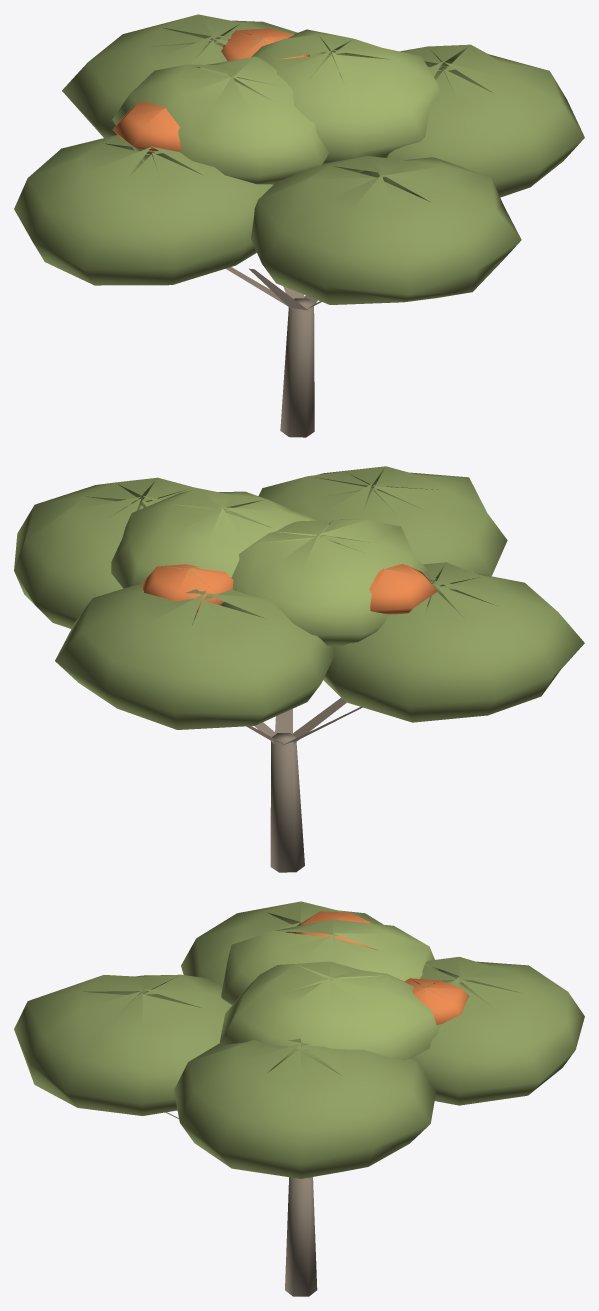
File: flame-tree-mid.glb
3 renders of one model, top to bottom at view 1: azimuth 30°, elevation 25°; view 2: azimuth 150°, elevation 25°; view 3: azimuth 270°, elevation 25°, orthographic. The views are drawn at different scales.
Parts seen in each view (by area): view 1: flame-tree-mid_canopy_flame-tree_shade, flame-tree-mid_canopy_flame-tree, flame-tree-mid_canopy_bark, flame-tree-mid_canopy_flame_bloom; view 2: flame-tree-mid_canopy_flame-tree_shade, flame-tree-mid_canopy_flame-tree, flame-tree-mid_canopy_bark, flame-tree-mid_canopy_flame_bloom; view 3: flame-tree-mid_canopy_flame-tree_shade, flame-tree-mid_canopy_flame-tree, flame-tree-mid_canopy_bark, flame-tree-mid_canopy_flame_bloom.
Boxes of the visible parts, <box> form: flame-tree-mid_canopy_flame-tree_shade: <box>14,14,584,304</box>; flame-tree-mid_canopy_flame-tree: <box>112,29,440,184</box>; flame-tree-mid_canopy_bark: <box>226,267,321,437</box>; flame-tree-mid_canopy_flame_bloom: <box>112,28,309,152</box>; flame-tree-mid_canopy_flame-tree_shade: <box>14,466,584,729</box>; flame-tree-mid_canopy_flame-tree: <box>111,489,436,645</box>; flame-tree-mid_canopy_bark: <box>246,698,362,872</box>; flame-tree-mid_canopy_flame_bloom: <box>142,564,437,614</box>; flame-tree-mid_canopy_flame-tree_shade: <box>14,901,584,1178</box>; flame-tree-mid_canopy_flame-tree: <box>219,919,438,1075</box>; flame-tree-mid_canopy_bark: <box>165,1112,317,1296</box>; flame-tree-mid_canopy_flame_bloom: <box>290,911,469,1024</box>.
Bounding box in the file's own units: 19.74 × 12.62 × 19.41.
